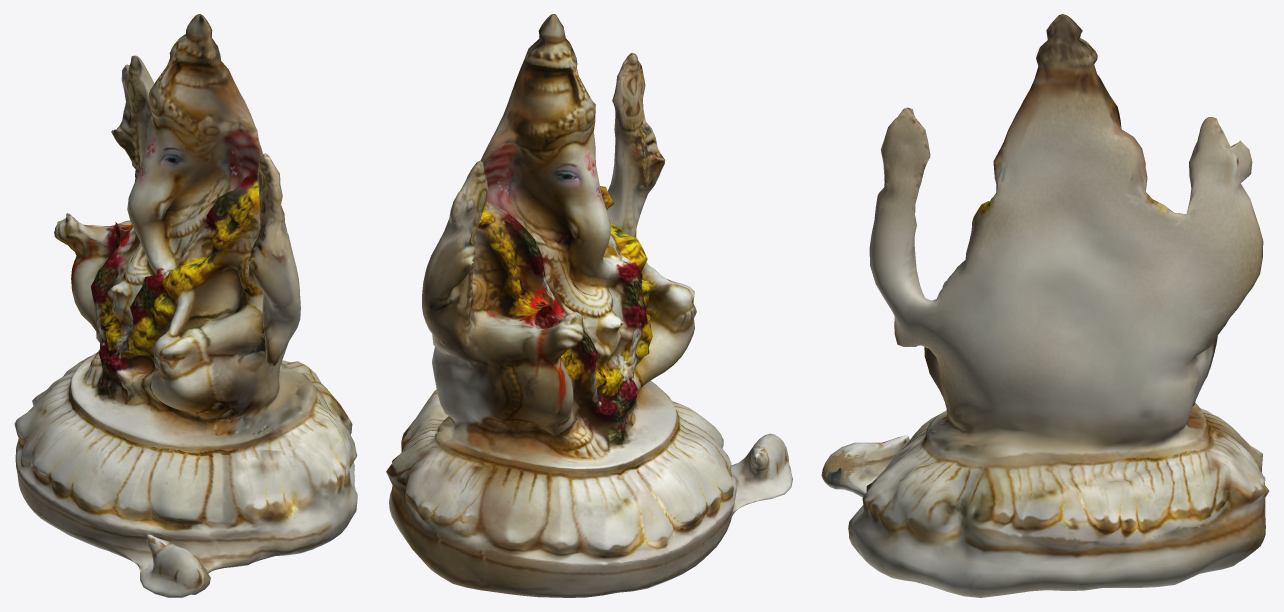
File: art16.glb
The picture shows the model from 3 angles, left to right: view 1: azimuth 30°, elevation 25°; view 2: azimuth 150°, elevation 25°; view 3: azimuth 270°, elevation 25°; orthographic projection. The views are drawn at different scales.
Visible parts, largest first — view 1: mmGroup0OPT1; view 2: mmGroup0OPT1; view 3: mmGroup0OPT1.
Part boxes in pixels (bbox=[...]): mmGroup0OPT1: bbox=[14, 14, 357, 597]; mmGroup0OPT1: bbox=[386, 14, 792, 597]; mmGroup0OPT1: bbox=[821, 14, 1269, 597].
Size of the model in its own units: 19.3 by 32.05 by 24.33.
2 materials, 2 textured.
